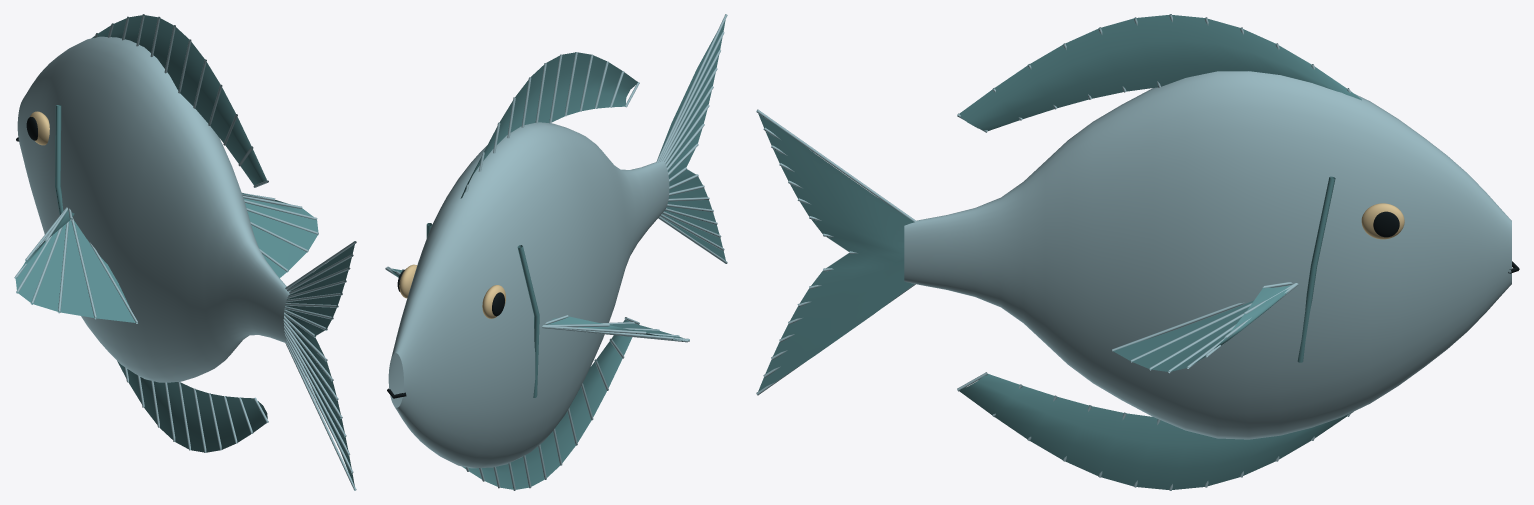
File: surgeonfish.glb
3 renders of one model, left to right at view 1: azimuth 30°, elevation 25°; view 2: azimuth 150°, elevation 25°; view 3: azimuth 270°, elevation 25°, orthographic. The views are drawn at different scales.
Visible parts, largest first — view 1: FishSkin, FishFin, Iris; view 2: FishSkin, FishFin, Iris, Eye; view 3: FishSkin, FishFin.
Part boxes in pixels (x1,y1,x2,y2): FishSkin: (14,14,356,490); FishFin: (15,15,355,486); Iris: (30,111,49,145); FishSkin: (385,14,727,490); FishFin: (391,20,725,489); Iris: (399,264,505,318); Eye: (387,269,504,398); FishSkin: (756,14,1511,490); FishFin: (758,14,1361,489).
Bounding box in the file's own units: 0.8645 × 1.14 × 1.66.
